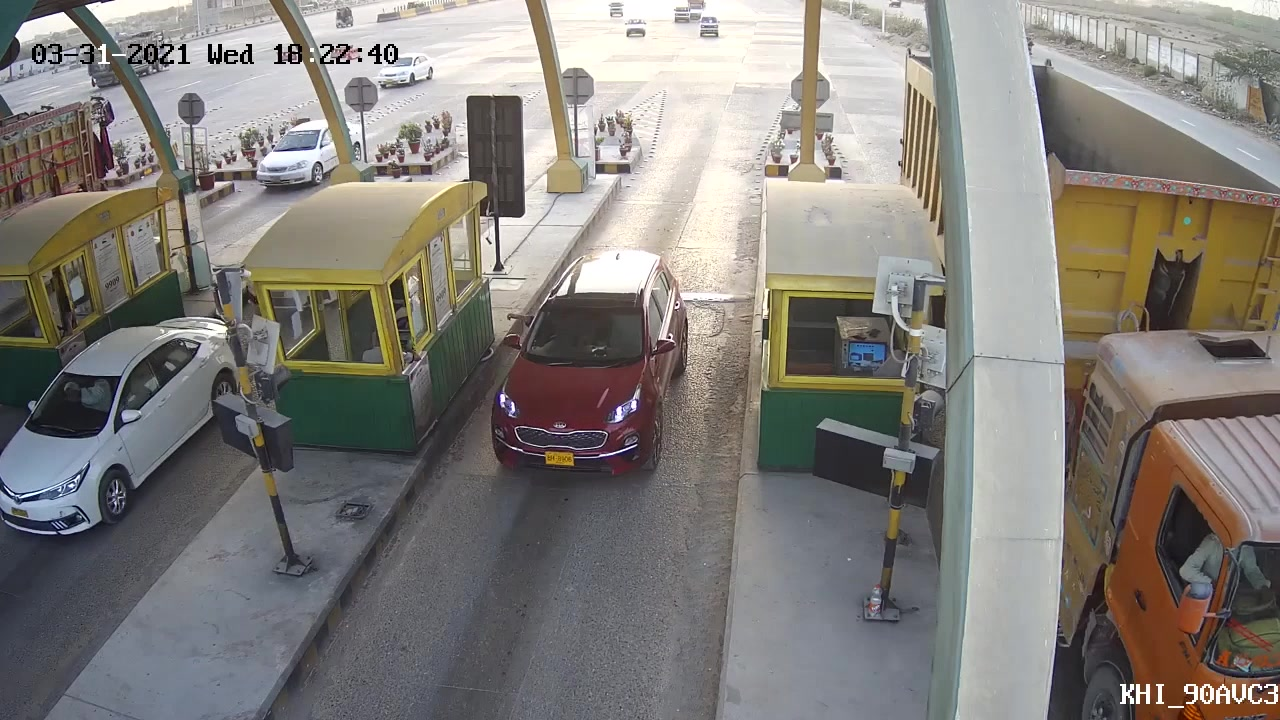F1: (478, 242, 695, 485)
